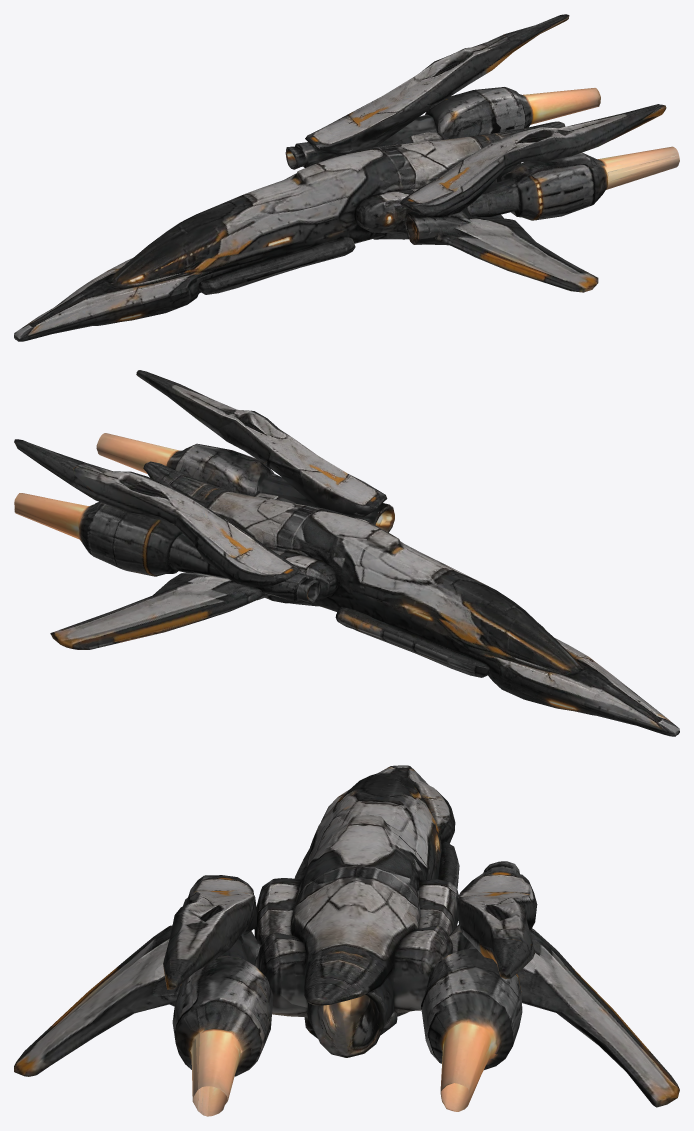
The model's file is runner.glb.
3 renders of one model, top to bottom at view 1: azimuth 30°, elevation 25°; view 2: azimuth 150°, elevation 25°; view 3: azimuth 270°, elevation 25°, orthographic. The views are drawn at different scales.
Parts seen in each view (by area): view 1: mesh_node; view 2: mesh_node; view 3: mesh_node.
Boxes of the visible parts, x1,y1,x2,y2 form: mesh_node: [14, 14, 679, 341]; mesh_node: [14, 370, 679, 736]; mesh_node: [14, 765, 679, 1116].
Bounding box in the file's own units: 1 × 0.2559 × 0.6152.
Materials: 1 (1 with a texture image).
